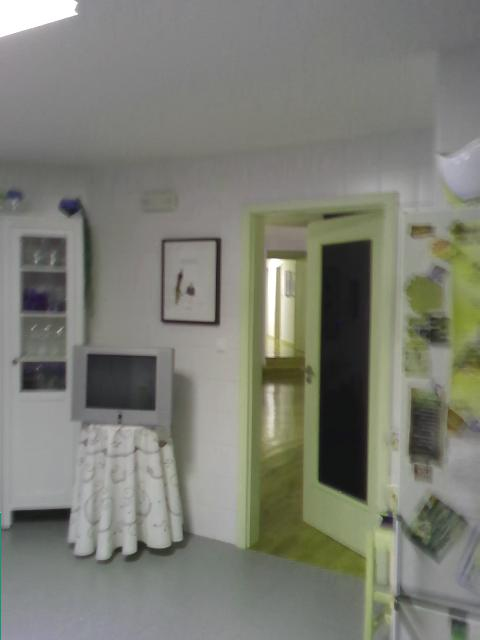semi_door: (236, 186, 399, 584)
